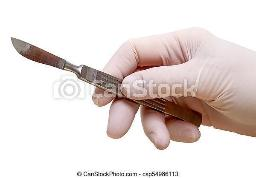scalpel: (10, 37, 202, 127)
